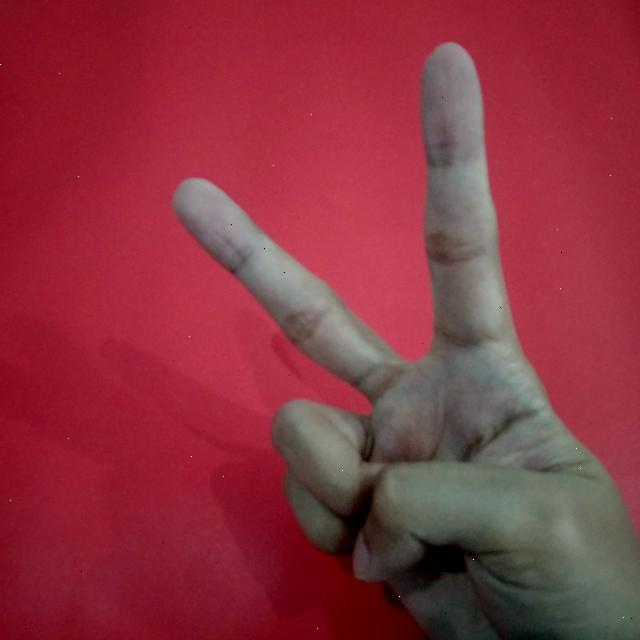V: (179, 36, 640, 640)
